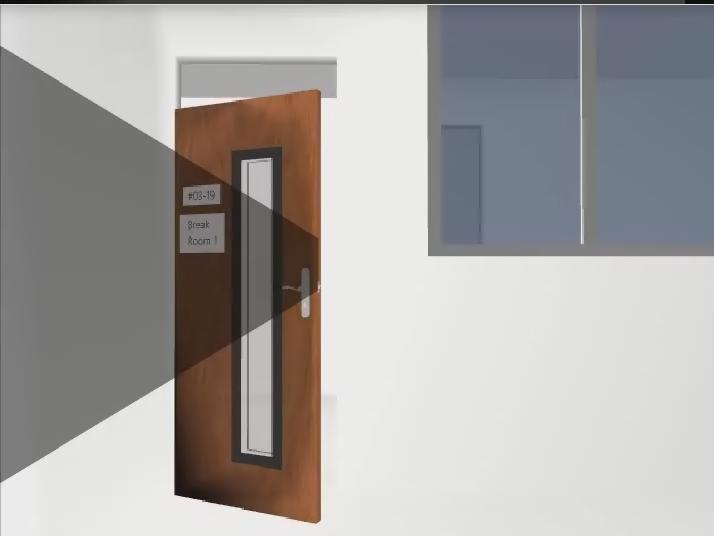door: (175, 89, 321, 523)
